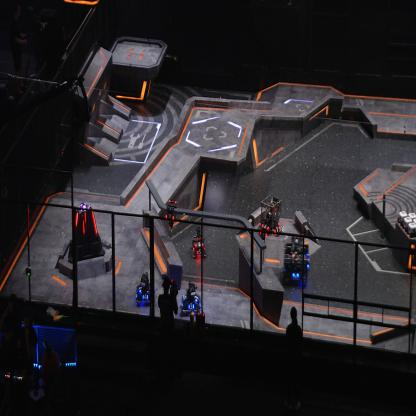car: (283, 233, 310, 286), (255, 193, 282, 242), (134, 272, 156, 307), (181, 280, 202, 315), (191, 227, 206, 258)
